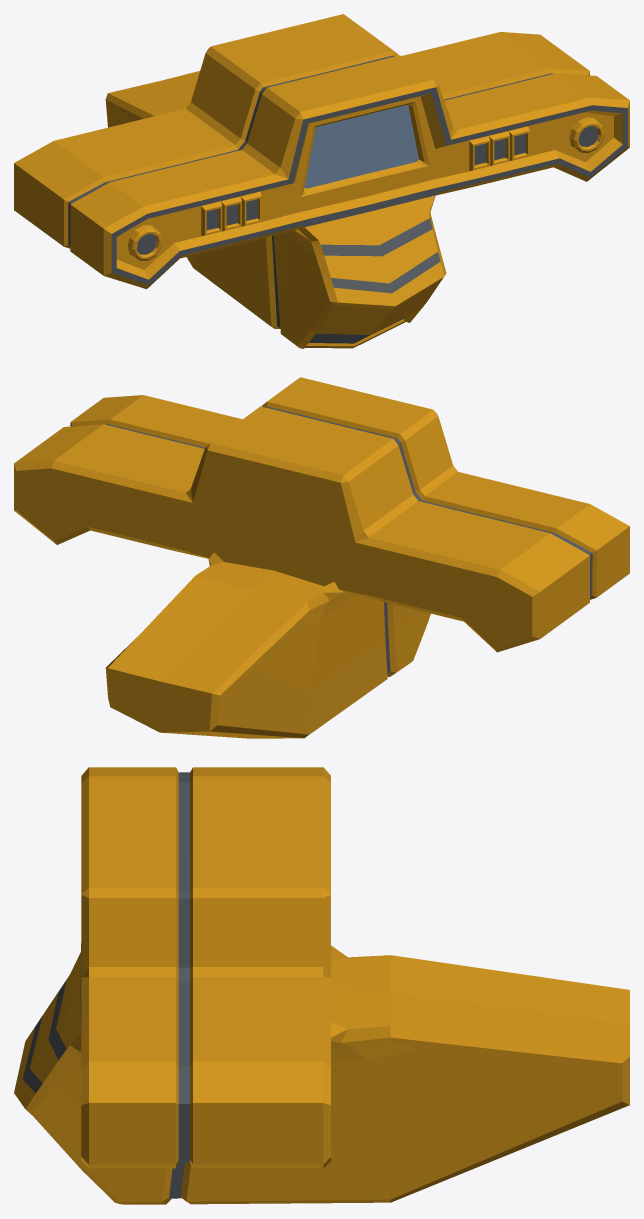
Rendered from Dropship_01_Front_Body_Yellow.fbx.
3 views of the same model, one above another, from view 1: azimuth 30°, elevation 25°; view 2: azimuth 150°, elevation 25°; view 3: azimuth 270°, elevation 25° (orthographic). The views are drawn at different scales.
Parts seen in each view (by area): view 1: Dropship_01_Front_Body_Yellow; view 2: Dropship_01_Front_Body_Yellow; view 3: Dropship_01_Front_Body_Yellow.
Part boxes in pixels (bbox=[...]): Dropship_01_Front_Body_Yellow: bbox=[14, 14, 629, 348]; Dropship_01_Front_Body_Yellow: bbox=[14, 377, 629, 738]; Dropship_01_Front_Body_Yellow: bbox=[14, 767, 629, 1204].
Bounding box in the file's own units: 1191 × 568 × 923.
3 materials, 3 textured.
